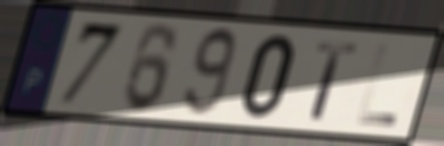0: (237, 32, 298, 121)
6: (120, 20, 179, 116)
7: (56, 19, 127, 107)
9: (178, 25, 239, 121)
L: (353, 41, 400, 129)
T: (307, 38, 362, 122)
